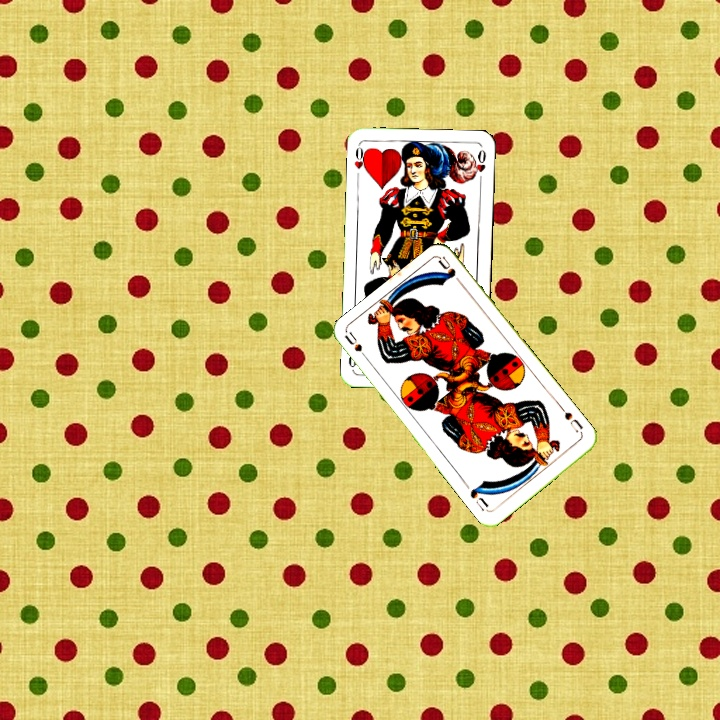HO: (350, 142, 370, 182)
SU: (341, 329, 373, 365), (556, 402, 585, 437)
